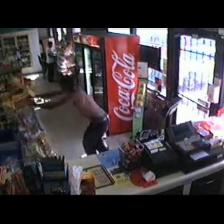person: (38, 77, 109, 155), (46, 42, 55, 82)
